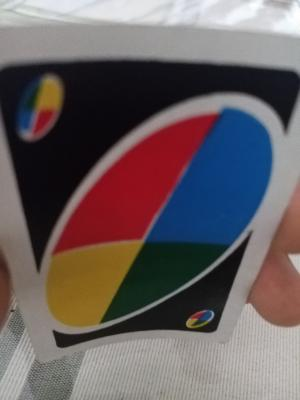wild: (36, 98, 273, 336), (11, 70, 71, 146), (184, 305, 217, 332)
